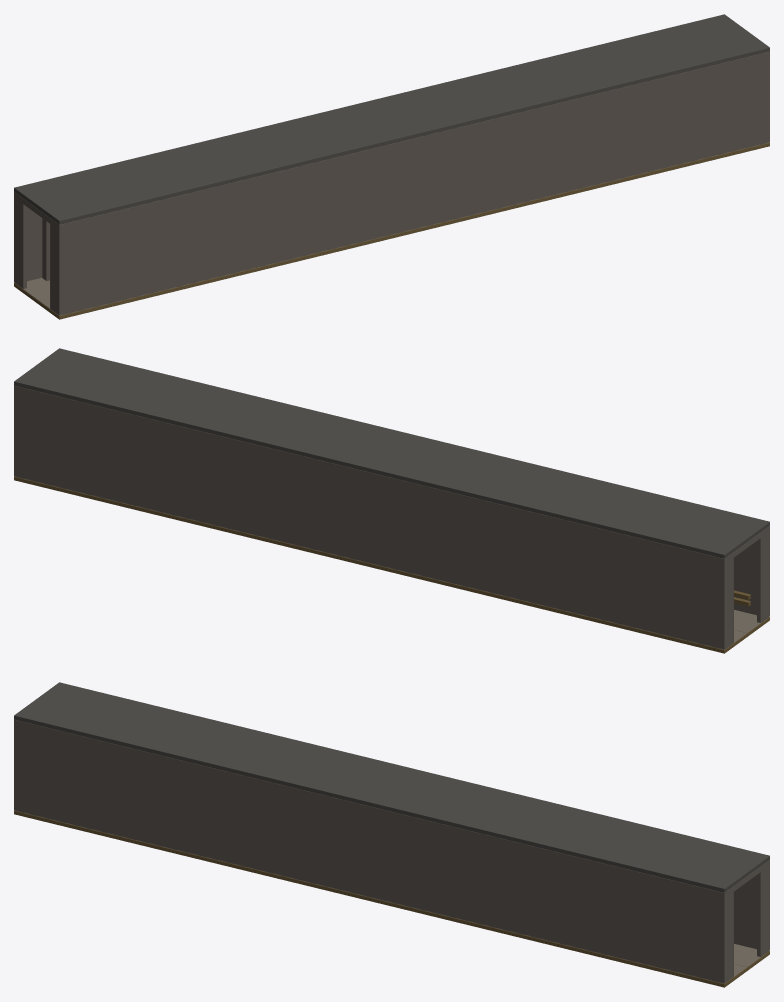
The model's file is gen-keelb.glb.
The picture shows the model from 3 angles, top to bottom: view 1: azimuth 30°, elevation 25°; view 2: azimuth 150°, elevation 25°; view 3: azimuth 330°, elevation 25°; orthographic projection.
Parts seen in each view (by area): view 1: THE KEEL RUN; view 2: THE KEEL RUN; view 3: THE KEEL RUN.
Part boxes in pixels (x1=…): THE KEEL RUN: x1=14, y1=14, x2=769, y2=319; THE KEEL RUN: x1=14, y1=348, x2=769, y2=653; THE KEEL RUN: x1=14, y1=682, x2=769, y2=987.
Size of the model in its own units: 18.05 by 2.4 by 2.
